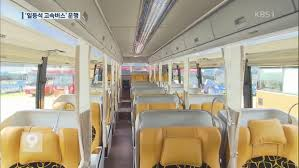seat: (144, 116, 222, 167)
